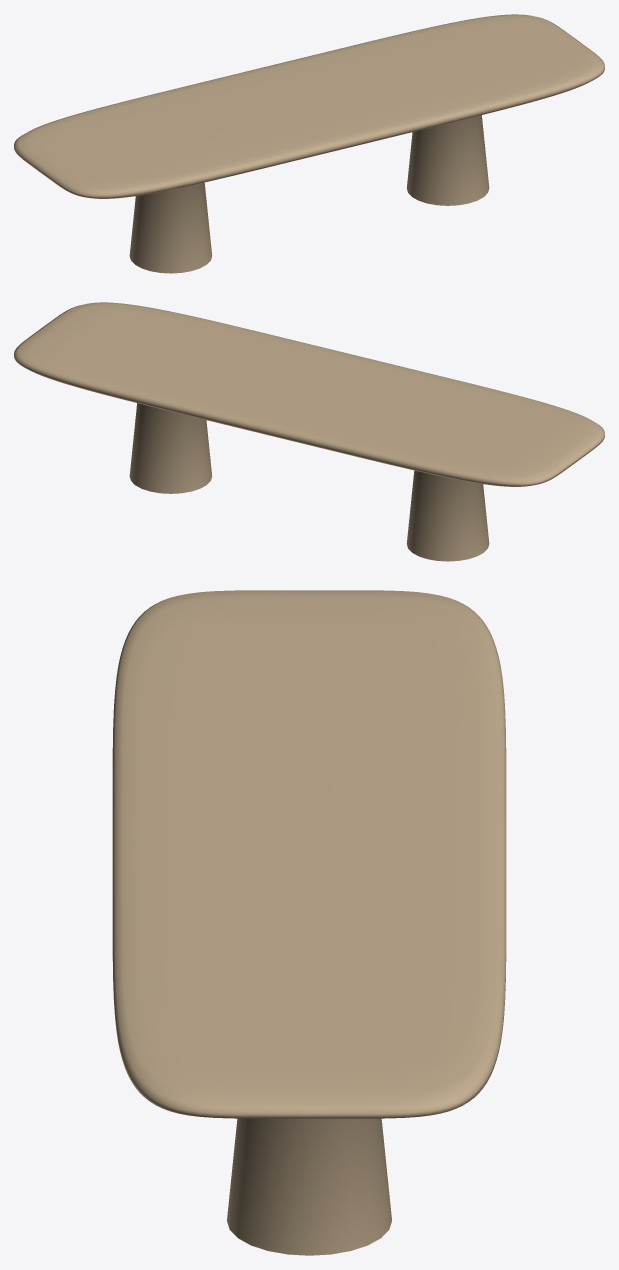
Rendered from stone-dining.glb.
3 renders of one model, top to bottom at view 1: azimuth 30°, elevation 25°; view 2: azimuth 150°, elevation 25°; view 3: azimuth 270°, elevation 25°, orthographic. The views are drawn at different scales.
Visible parts, largest first — view 1: stone-dining; view 2: stone-dining; view 3: stone-dining.
Boxes of the visible parts, x1,y1,x2,y2 form: stone-dining: [14, 14, 604, 273]; stone-dining: [14, 302, 604, 561]; stone-dining: [112, 590, 506, 1255].
Size of the model in its own units: 3.52 by 0.7584 by 1.12.
